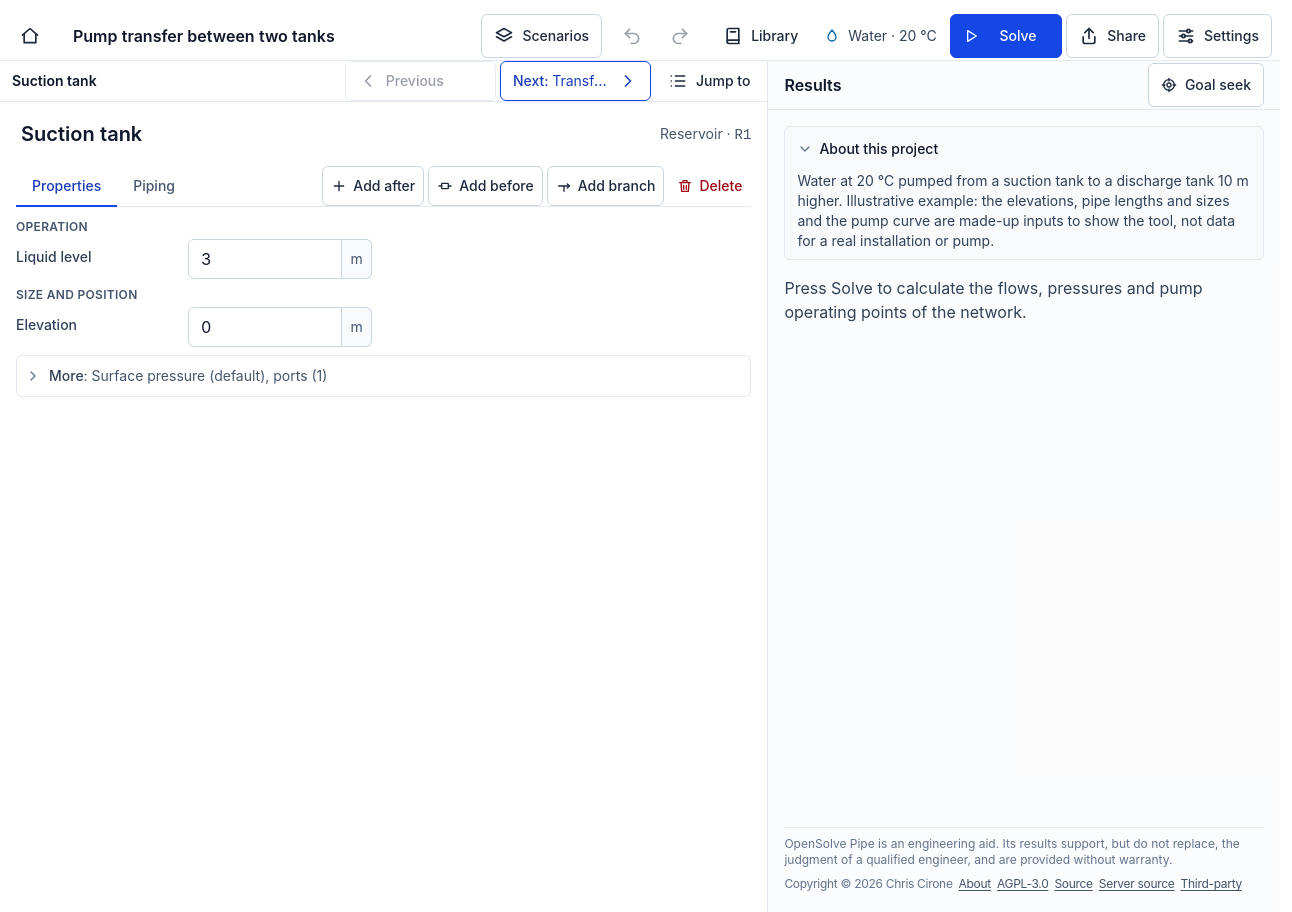
Test: results state › after an edit and a failed solve: the error first, and the earlier results only on request
Click the button "Solve" at {"x": 1006, "y": 36}, box [950,14,1062,58]
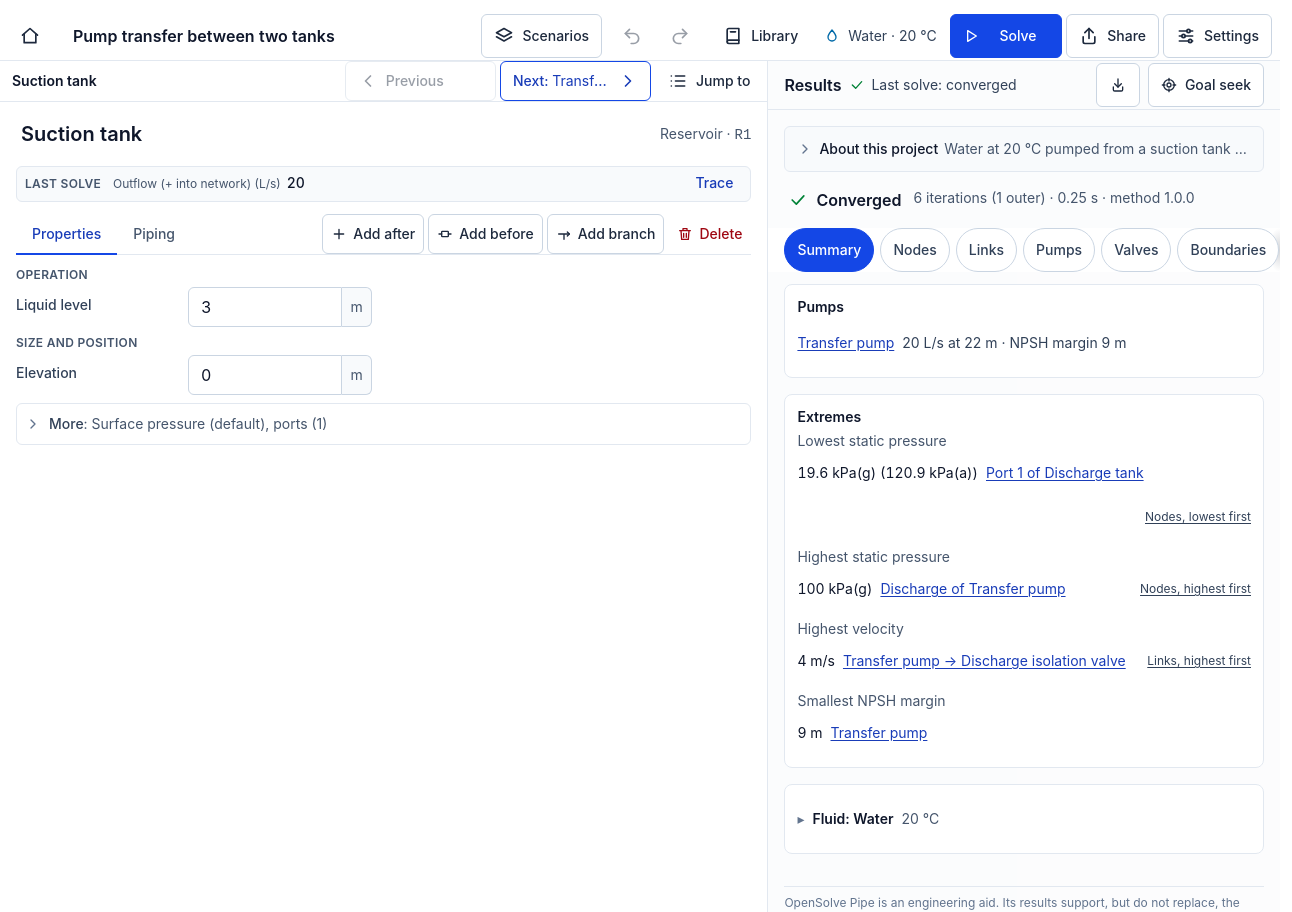
Click the button "Solve" at {"x": 1006, "y": 36}, box [950,14,1062,58]
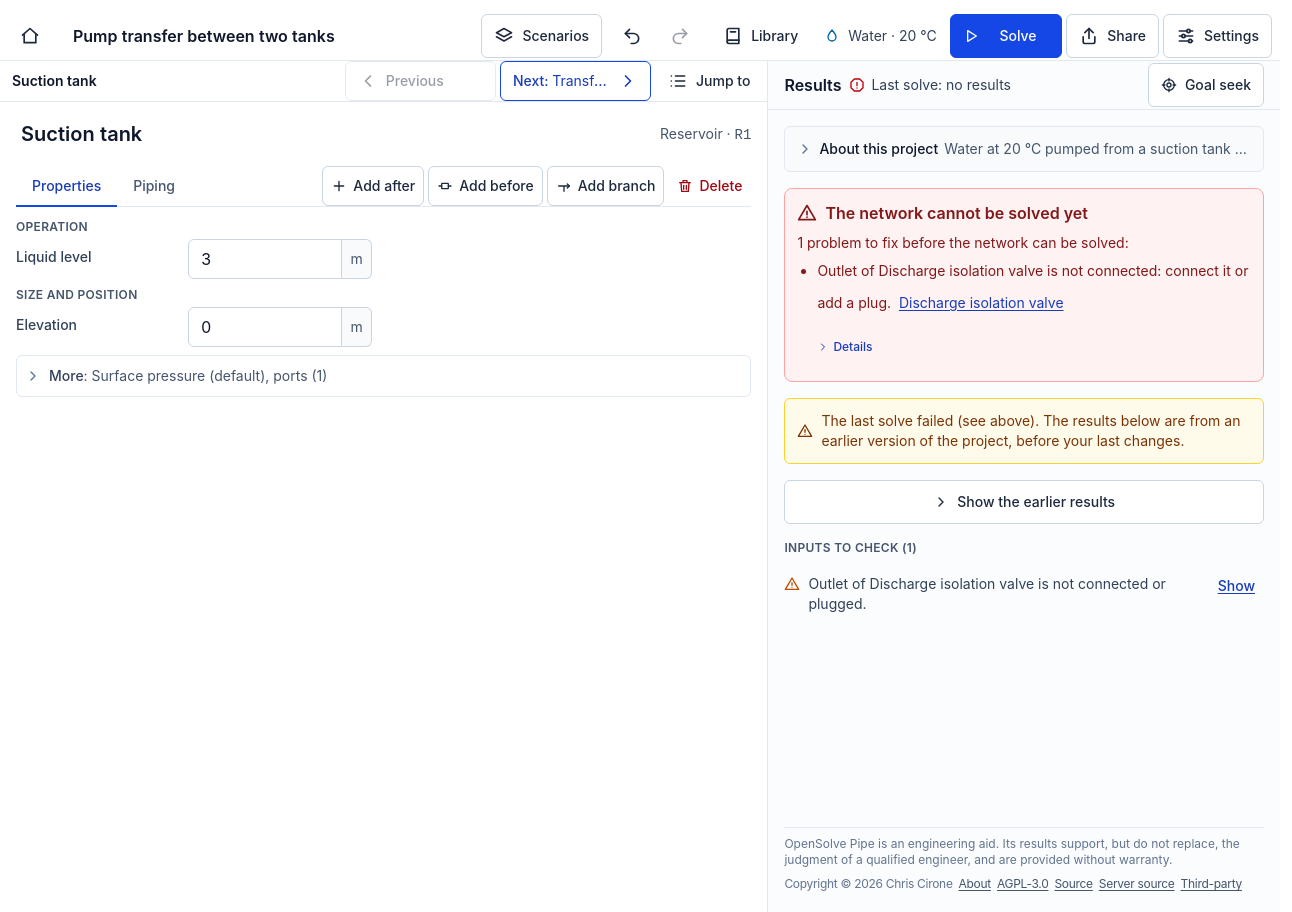
Check: the text "the project changed after this solve" is not shown
Check: the message reads "Last solve: no results", box [871,76,1011,93]
Check: the message "converged" is gone
Click the button "Show the earlier results" at {"x": 1024, "y": 502}, box [784,480,1264,524]
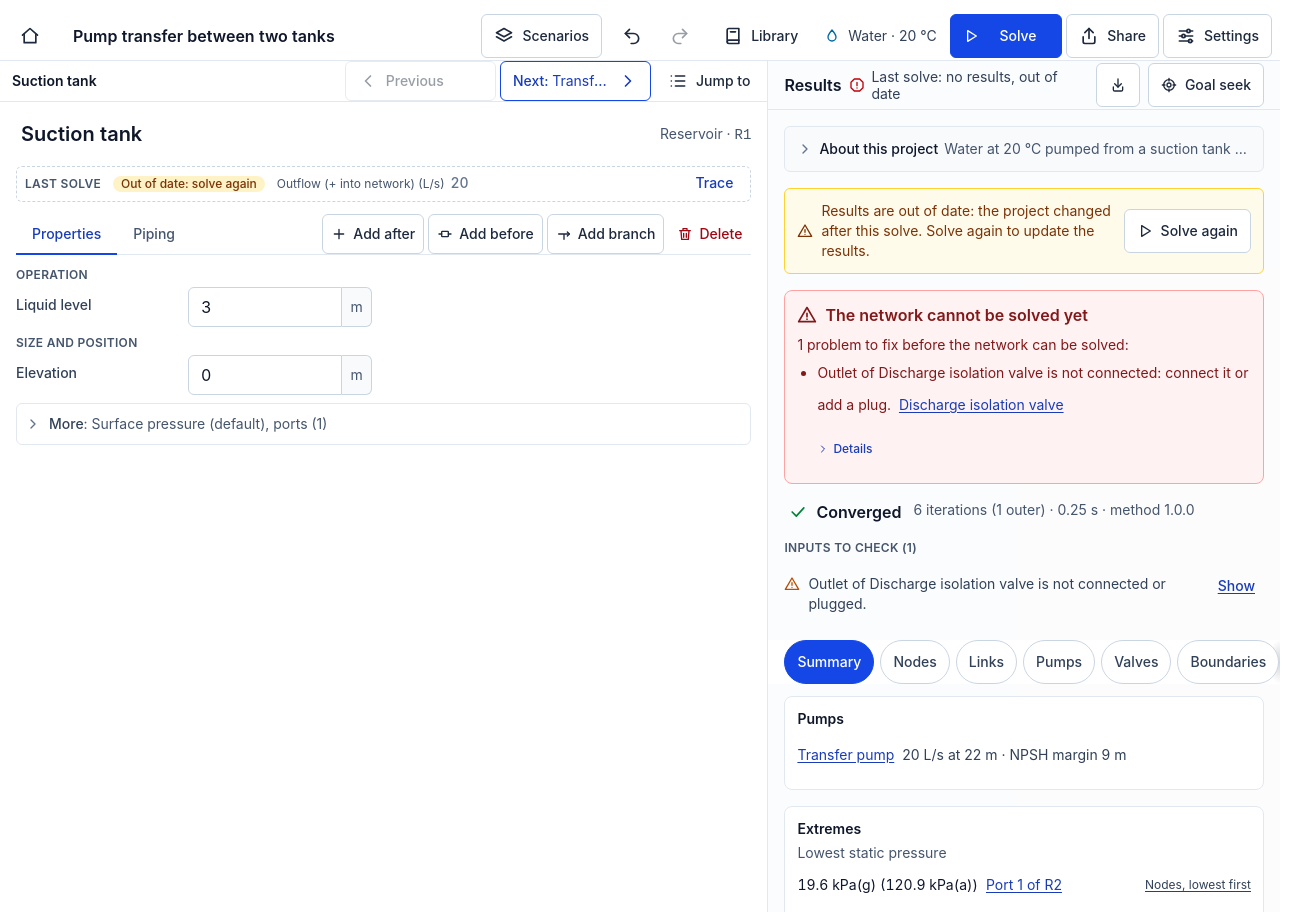
Check: the heading "Converged" is shown, box [788,500,902,524]
Check: the element named "Results view" is shown, box [768,640,1280,684]
Check: the text "Results are out of date: the project changed after this solve" is shown, box [821,202,1111,239]
